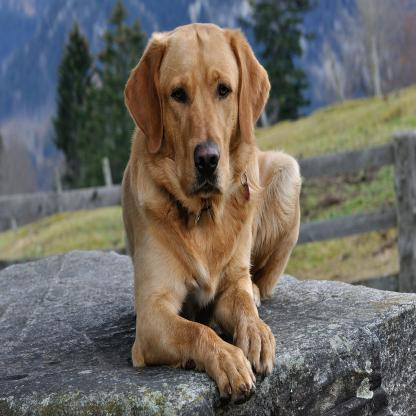Rotveler: (122, 20, 302, 402)
